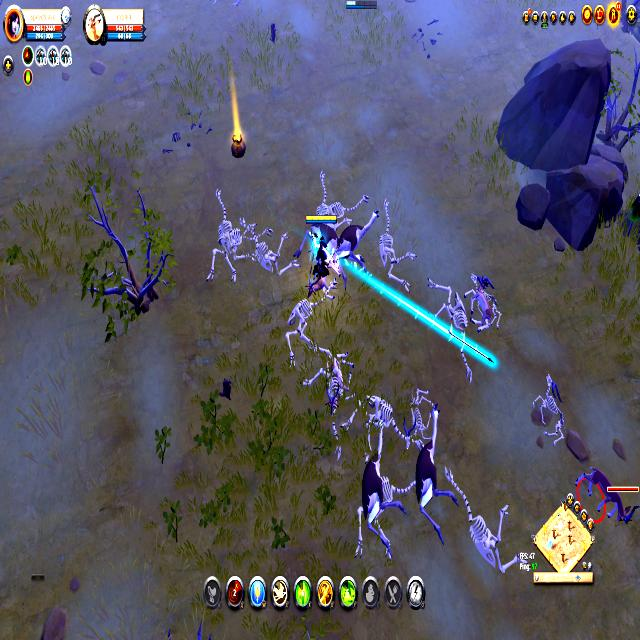mob: (360, 418, 408, 558), (415, 402, 461, 548), (322, 197, 380, 266), (462, 272, 496, 335)
ore: (576, 464, 640, 525)
player: (620, 189, 640, 243)
red: (305, 212, 337, 282)
